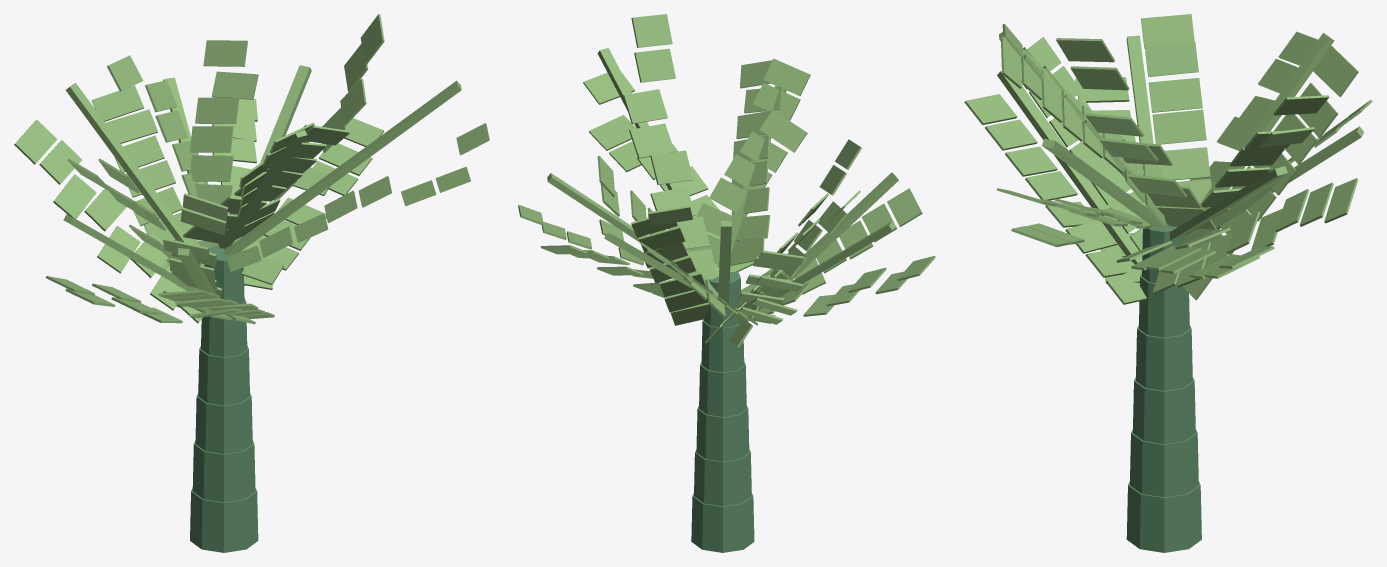
Rendered from banana-plant.glb.
3 views of the same model, side by side, from view 1: azimuth 30°, elevation 25°; view 2: azimuth 150°, elevation 25°; view 3: azimuth 270°, elevation 25° (orthographic). The views are drawn at different scales.
Parts seen in each view (by area): view 1: botanical-glasshouse-and-palm-house-banana-plant; view 2: botanical-glasshouse-and-palm-house-banana-plant; view 3: botanical-glasshouse-and-palm-house-banana-plant.
Boxes of the visible parts, x1=… form: botanical-glasshouse-and-palm-house-banana-plant: x1=14, y1=14, x2=489, y2=552; botanical-glasshouse-and-palm-house-banana-plant: x1=518, y1=14, x2=935, y2=552; botanical-glasshouse-and-palm-house-banana-plant: x1=964, y1=14, x2=1372, y2=552.
Bounding box in the file's own units: 2.01 × 2.45 × 1.6.
